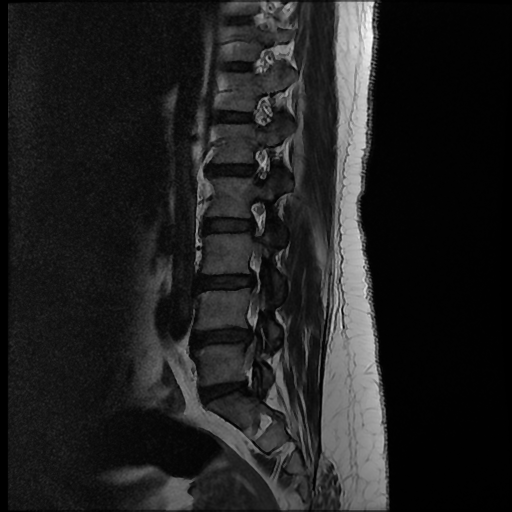RFS0: (240, 139, 279, 189), (241, 190, 277, 241)
